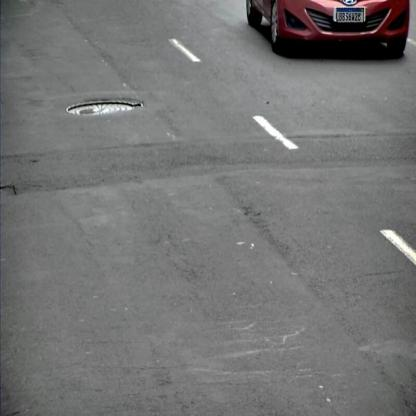PlacaM: (336, 8, 364, 23)
